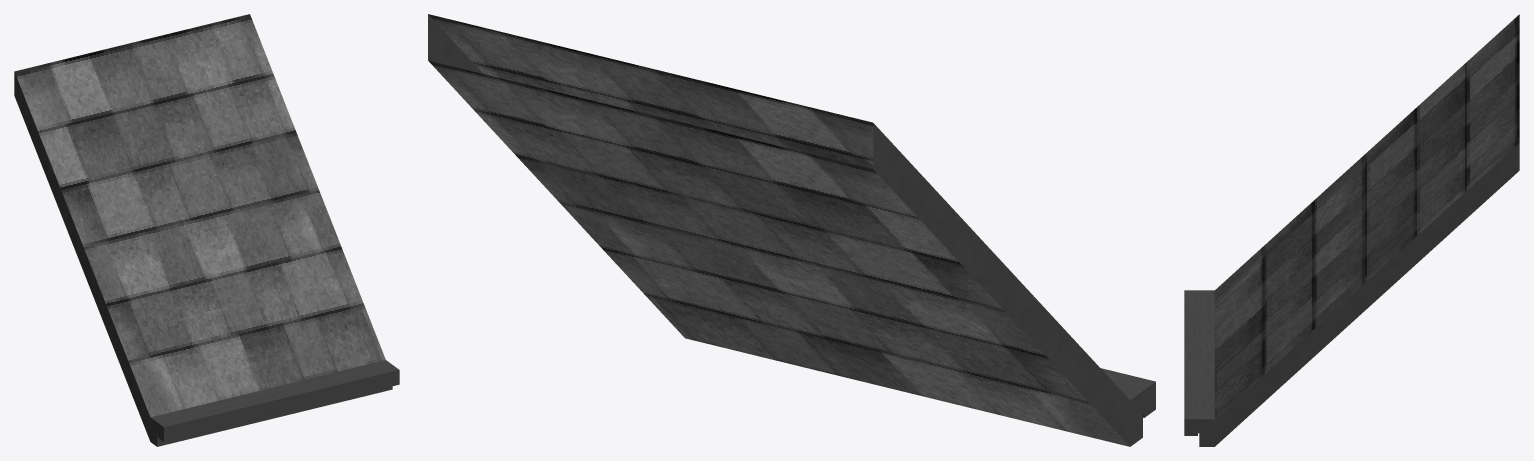
File: Roof_Base_Center.glb
3 renders of one model, left to right at view 1: azimuth 30°, elevation 25°; view 2: azimuth 150°, elevation 25°; view 3: azimuth 270°, elevation 25°, orthographic. The views are drawn at different scales.
Visible parts, largest first — view 1: Roof_Base_Center.001; view 2: Roof_Base_Center.001; view 3: Roof_Base_Center.001.
Boxes of the visible parts, x1=… form: Roof_Base_Center.001: x1=14, y1=14, x2=399, y2=446; Roof_Base_Center.001: x1=428, y1=14, x2=1155, y2=446; Roof_Base_Center.001: x1=1184, y1=14, x2=1519, y2=446.
Size of the model in its own units: 2 by 2.2 by 2.2.
1 material, 1 textured.
